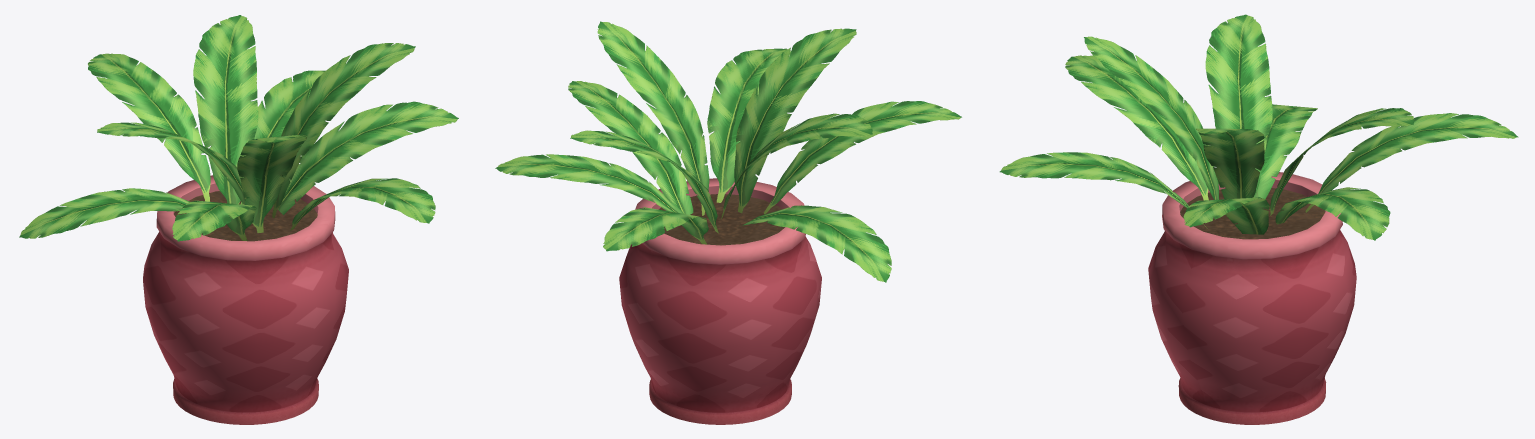
The model's file is flowerpot.fbx.
The picture shows the model from 3 angles, left to right: view 1: azimuth 30°, elevation 25°; view 2: azimuth 150°, elevation 25°; view 3: azimuth 270°, elevation 25°; orthographic projection. The views are drawn at different scales.
Visible parts, largest first — view 1: Flowerpot_mesh; view 2: Flowerpot_mesh; view 3: Flowerpot_mesh.
Boxes of the visible parts, <box> form: Flowerpot_mesh: <box>19,15,458,424</box>; Flowerpot_mesh: <box>495,21,961,424</box>; Flowerpot_mesh: <box>999,14,1518,424</box>.
Size of the model in its own units: 4.66 by 3.71 by 5.3.
2 materials, 2 textured.
